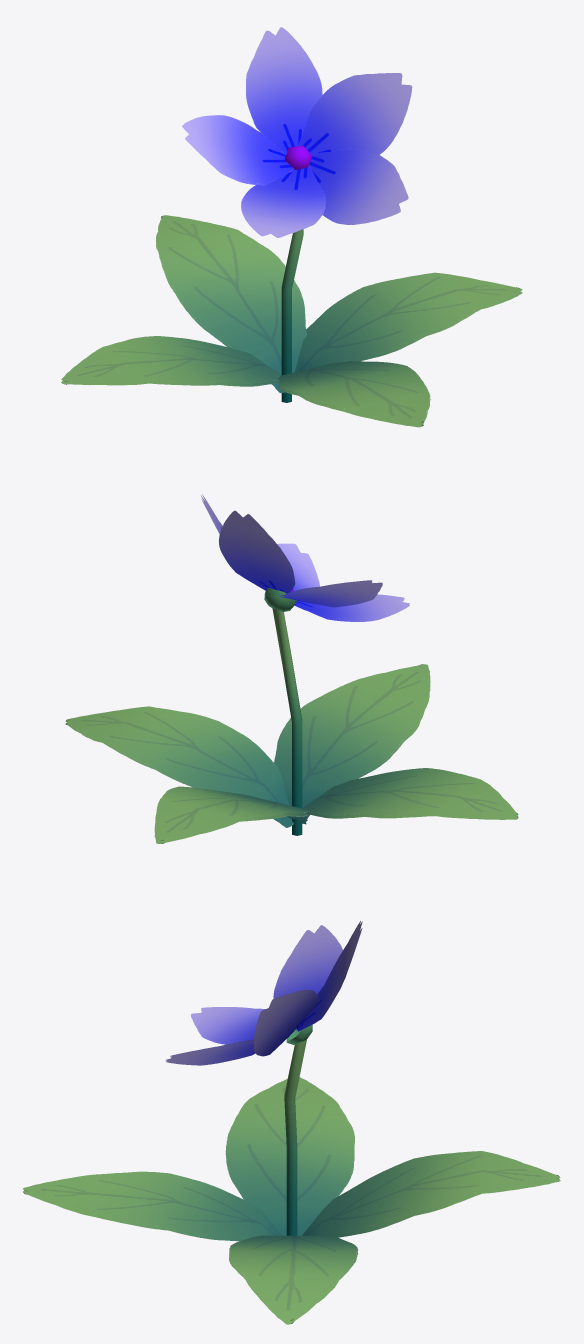
The model's file is hana_blue.fbx.
3 views of the same model, one above another, from view 1: azimuth 30°, elevation 25°; view 2: azimuth 150°, elevation 25°; view 3: azimuth 270°, elevation 25° (orthographic). The views are drawn at different scales.
Parts seen in each view (by area): view 1: pPlane46, pPlane39, pPlane47, pPlane48, pPlane42, pPlane41, pPlane43, pPlane45, pPlane44, pCylinder18; view 2: pPlane48, pPlane39, pPlane47, pPlane46, pPlane41, pCylinder18, pPlane45, pPlane44, pPlane43, pSphere2; view 3: pPlane47, pPlane48, pPlane46, pPlane39, pPlane45, pPlane42, pCylinder18, pPlane44, pPlane41, pPlane43.
Boxes of the visible parts, x1,y1,x2,y2 form: pPlane46: (156,215,306,393); pPlane39: (295,272,522,372); pPlane47: (61,336,280,386); pPlane48: (278,361,430,427); pPlane42: (298,73,412,154); pPlane41: (246,27,322,155); pPlane43: (309,149,408,224); pPlane45: (182,115,294,185); pPlane44: (241,166,325,237); pCylinder18: (281,229,303,402); pPlane48: (274,664,430,808); pPlane39: (65,706,293,827); pPlane47: (290,768,518,819); pPlane46: (154,786,309,843); pPlane41: (219,510,295,593); pCylinder18: (272,608,302,835); pPlane45: (278,580,382,607); pPlane44: (294,594,409,621); pPlane43: (277,543,319,610); pSphere2: (264,588,296,611); pPlane47: (225,1077,354,1235); pPlane48: (23,1171,281,1241); pPlane46: (302,1151,560,1237); pPlane39: (229,1235,357,1324); pPlane45: (273,925,342,998); pPlane42: (253,989,318,1056); pCylinder18: (284,1035,306,1235); pPlane44: (191,1007,265,1044); pPlane41: (296,921,362,1031); pPlane43: (165,1039,255,1065).
Size of the model in its own units: 3.19 by 2.27 by 3.19.
